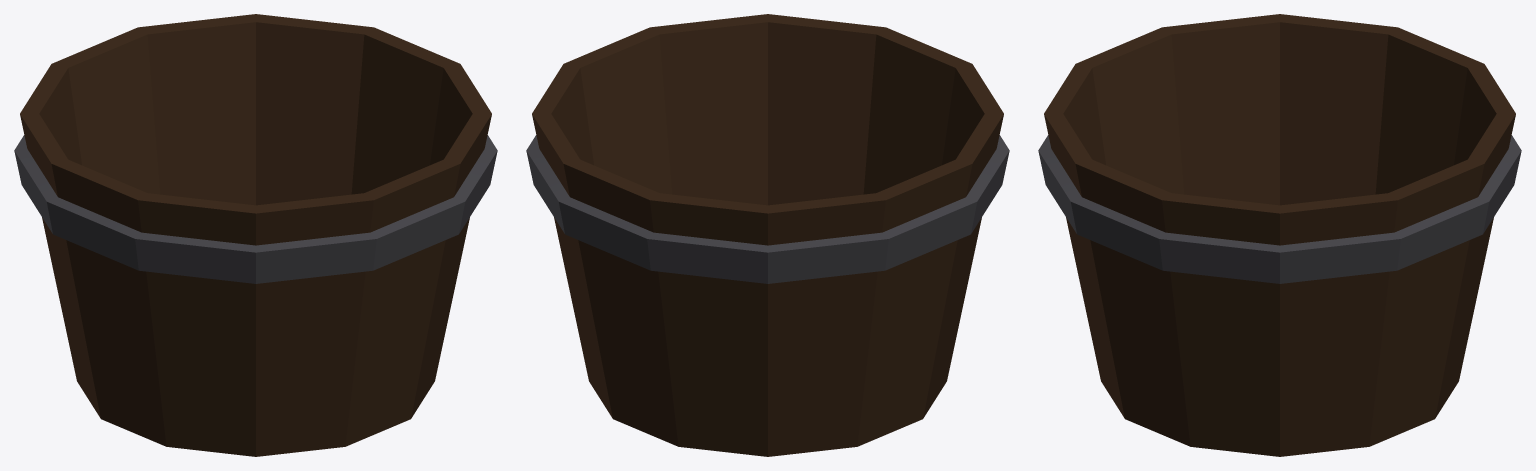
The model's file is basket1.fbx.
The picture shows the model from 3 angles, left to right: view 1: azimuth 30°, elevation 25°; view 2: azimuth 150°, elevation 25°; view 3: azimuth 270°, elevation 25°; orthographic projection.
Parts seen in each view (by area): view 1: basket1; view 2: basket1; view 3: basket1.
Boxes of the visible parts, x1,y1,x2,y2 form: basket1: [14, 14, 497, 456]; basket1: [526, 14, 1009, 456]; basket1: [1038, 14, 1521, 456].
Size of the model in its own units: 169 by 103 by 169.
